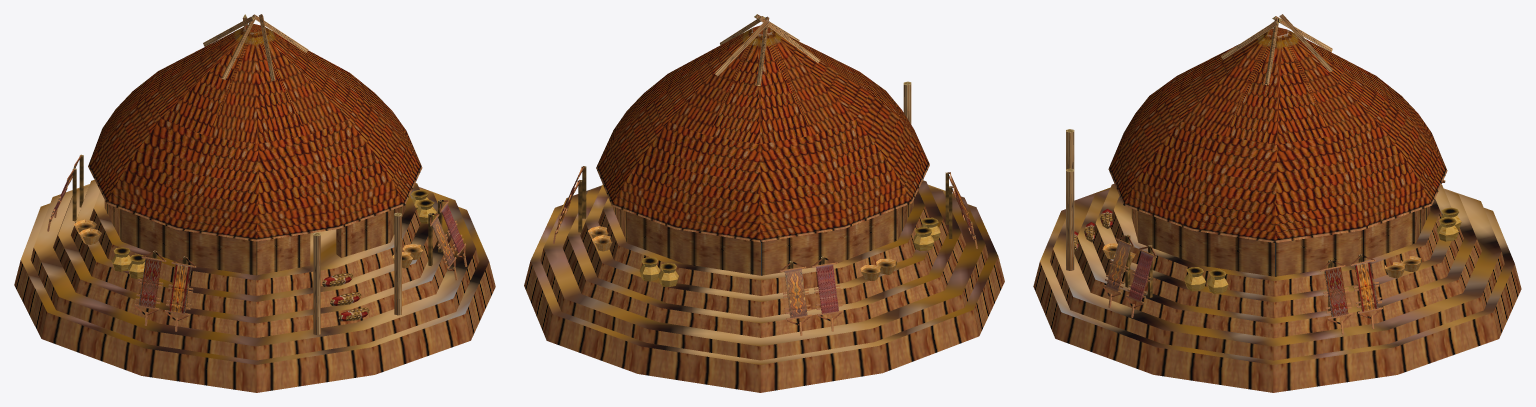
The picture shows the model from 3 angles, left to right: view 1: azimuth 30°, elevation 25°; view 2: azimuth 150°, elevation 25°; view 3: azimuth 270°, elevation 25°; orthographic projection.
Parts seen in each view (by area): view 1: cc; view 2: cc; view 3: cc.
Boxes of the visible parts, bbox=[...] form: cc: bbox=[14, 14, 495, 392]; cc: bbox=[524, 14, 1004, 392]; cc: bbox=[1033, 14, 1521, 392].
Bounding box in the file's own units: 39.28 × 38.55 × 23.54.
